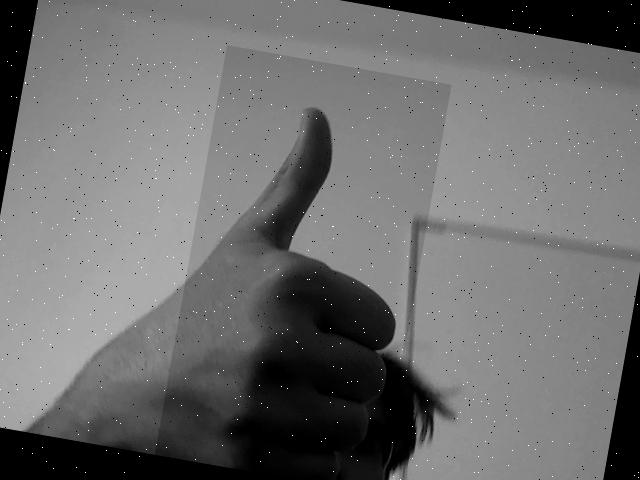good: (154, 45, 450, 480)
